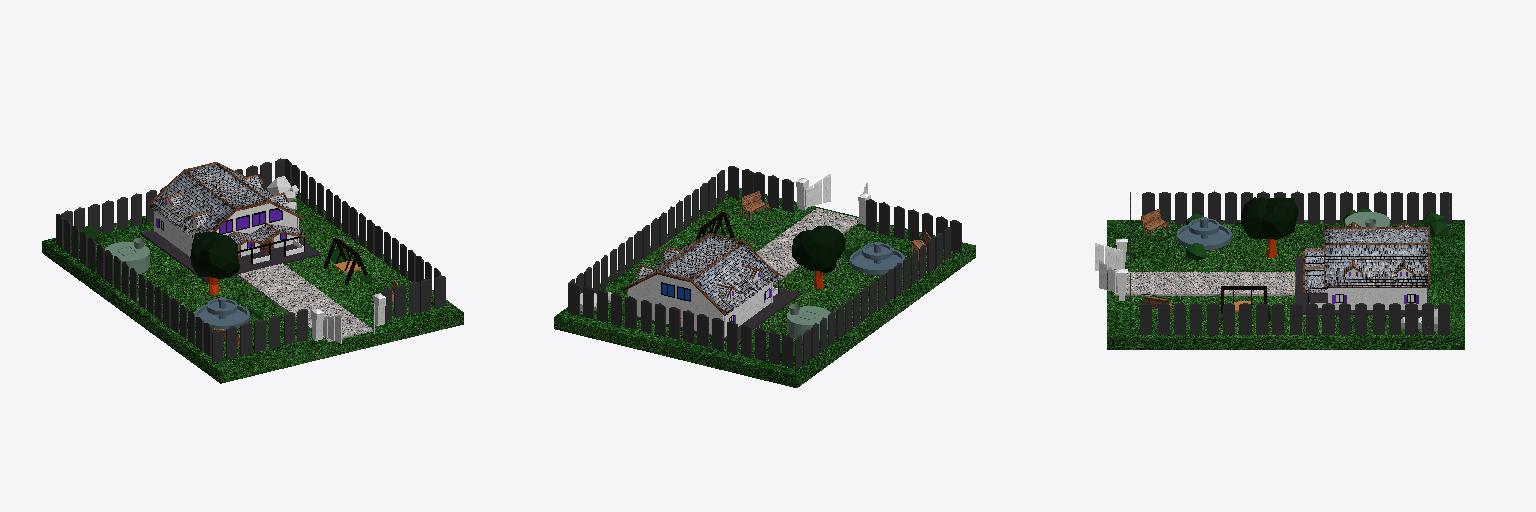
3 renders of one model, left to right at view 1: azimuth 30°, elevation 25°; view 2: azimuth 150°, elevation 25°; view 3: azimuth 270°, elevation 25°, orthographic.
Visible parts, largest first — view 1: green_plane_Cube.027, Fence_Cube.245, Roof, Pavement_Cube, House_Street_environment_V01.098, branch_Icosphere.017, Base_Cube.019, Fountain_Circle.002, Gate_Cube.002, Well_Circle.001, jhulunga.001_Cube.213, roof2_wood_Street_environment_V01.107 (+1 smaller); view 2: Fence_Cube.245, green_plane_Cube.027, Roof, House_Street_environment_V01.098, Pavement_Cube, branch_Icosphere.017, Fountain_Circle.002, Gate_Cube.002, Well_Circle.001, Base_Cube.019, Bench_Cube.021; view 3: green_plane_Cube.027, Fence_Cube.245, Roof, Pavement_Cube, branch_Icosphere.017, House_Street_environment_V01.098, Gate_Cube.002, Fountain_Circle.002, roof2_wood_Street_environment_V01.107, Base_Cube.019, Bench_Cube.021, Well_Circle.001.
Boxes of the visible parts, <box> form: green_plane_Cube.027: <box>42,193,463,383</box>; Fence_Cube.245: <box>56,158,445,362</box>; Roof: <box>148,162,304,238</box>; Pavement_Cube: <box>238,263,372,341</box>; House_Street_environment_V01.098: <box>154,203,304,264</box>; branch_Icosphere.017: <box>190,232,239,278</box>; Base_Cube.019: <box>141,230,320,282</box>; Fountain_Circle.002: <box>195,297,249,329</box>; Gate_Cube.002: <box>311,293,385,343</box>; Well_Circle.001: <box>105,238,149,275</box>; jhulunga.001_Cube.213: <box>323,238,367,284</box>; roof2_wood_Street_environment_V01.107: <box>228,224,304,243</box>; Fence_Cube.245: <box>568,166,961,369</box>; green_plane_Cube.027: <box>554,188,975,387</box>; Roof: <box>622,233,778,315</box>; House_Street_environment_V01.098: <box>628,274,778,337</box>; Pavement_Cube: <box>756,208,859,284</box>; branch_Icosphere.017: <box>792,226,845,272</box>; Fountain_Circle.002: <box>850,242,904,274</box>; Gate_Cube.002: <box>796,174,870,224</box>; Well_Circle.001: <box>787,304,830,338</box>; Base_Cube.019: <box>622,287,800,340</box>; Bench_Cube.021: <box>740,191,930,259</box>; green_plane_Cube.027: <box>1107,220,1464,349</box>; Fence_Cube.245: <box>1130,191,1451,334</box>; Roof: <box>1324,226,1429,287</box>; Pavement_Cube: <box>1114,272,1294,295</box>; branch_Icosphere.017: <box>1241,197,1298,239</box>; House_Street_environment_V01.098: <box>1308,288,1426,309</box>; Gate_Cube.002: <box>1095,239,1127,300</box>; Fountain_Circle.002: <box>1176,217,1231,249</box>; roof2_wood_Street_environment_V01.107: <box>1305,248,1327,292</box>; Base_Cube.019: <box>1296,257,1427,314</box>; Bench_Cube.021: <box>1141,209,1171,312</box>; Well_Circle.001: <box>1345,212,1389,226</box>.
Bounding box in the file's own units: 1.29 × 0.3565 × 1.71.
20 materials, 5 textured.